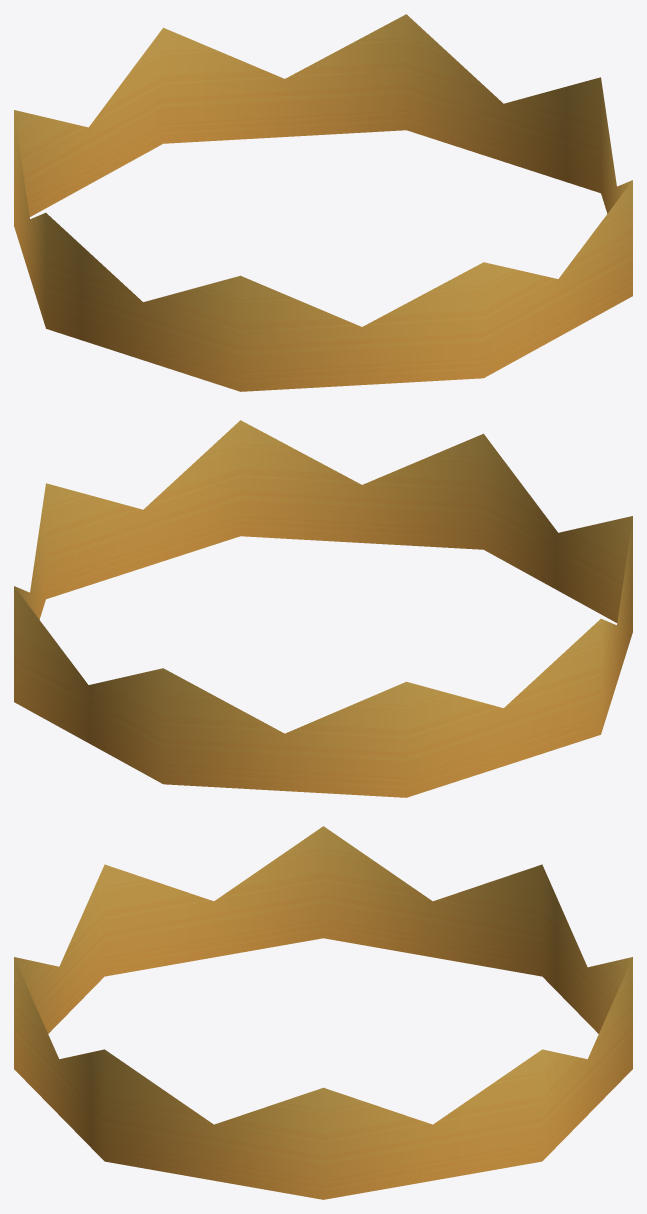
The model's file is indicator-round-d.glb.
3 renders of one model, top to bottom at view 1: azimuth 30°, elevation 25°; view 2: azimuth 150°, elevation 25°; view 3: azimuth 270°, elevation 25°, orthographic. The views are drawn at different scales.
Parts seen in each view (by area): view 1: rotate-y; view 2: rotate-y; view 3: rotate-y.
Boxes of the visible parts, x1,y1,x2,y2 form: rotate-y: (14,14,632,391); rotate-y: (14,420,632,797); rotate-y: (14,826,632,1199).
Size of the model in its own units: 1 by 0.2 by 1.
Materials: 1 (1 with a texture image).
